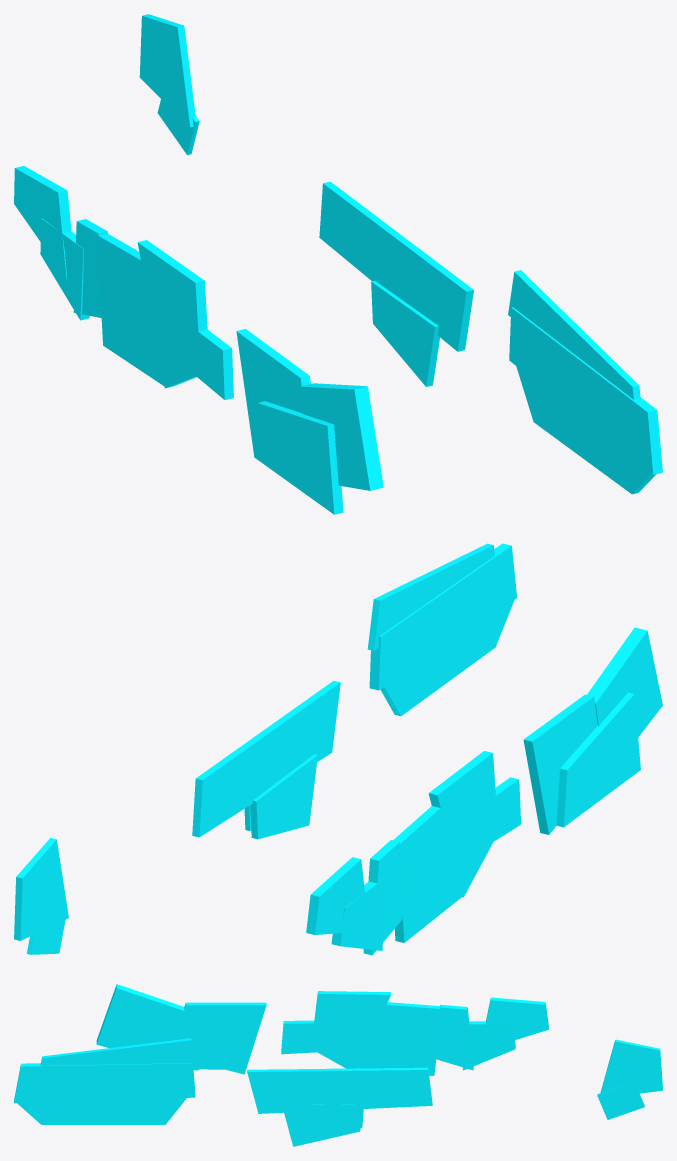
File: SM_Bld_Bridge_01_Plating_01_Collision.fbx
3 views of the same model, one above another, from view 1: azimuth 30°, elevation 25°; view 2: azimuth 150°, elevation 25°; view 3: azimuth 270°, elevation 25° (orthographic). The views are drawn at different scales.
Visible parts, largest first — view 1: SM_Bld_Bridge_01_Plating_01_Collision; view 2: SM_Bld_Bridge_01_Plating_01_Collision; view 3: SM_Bld_Bridge_01_Plating_01_Collision.
Part boxes in pixels (x1,y1,x2,y2): SM_Bld_Bridge_01_Plating_01_Collision: (14,14,662,514); SM_Bld_Bridge_01_Plating_01_Collision: (14,543,662,955); SM_Bld_Bridge_01_Plating_01_Collision: (14,984,662,1146).
Bounding box in the file's own units: 2221 × 1571 × 8488.
